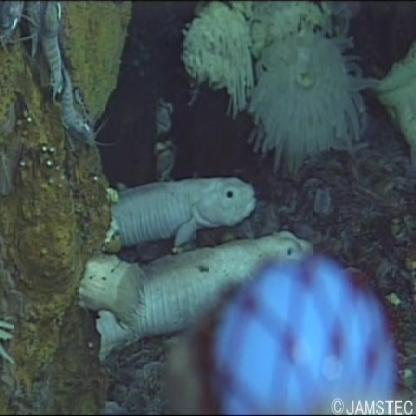Bio: (76, 173, 319, 370), (246, 36, 385, 179), (1, 1, 105, 153)
